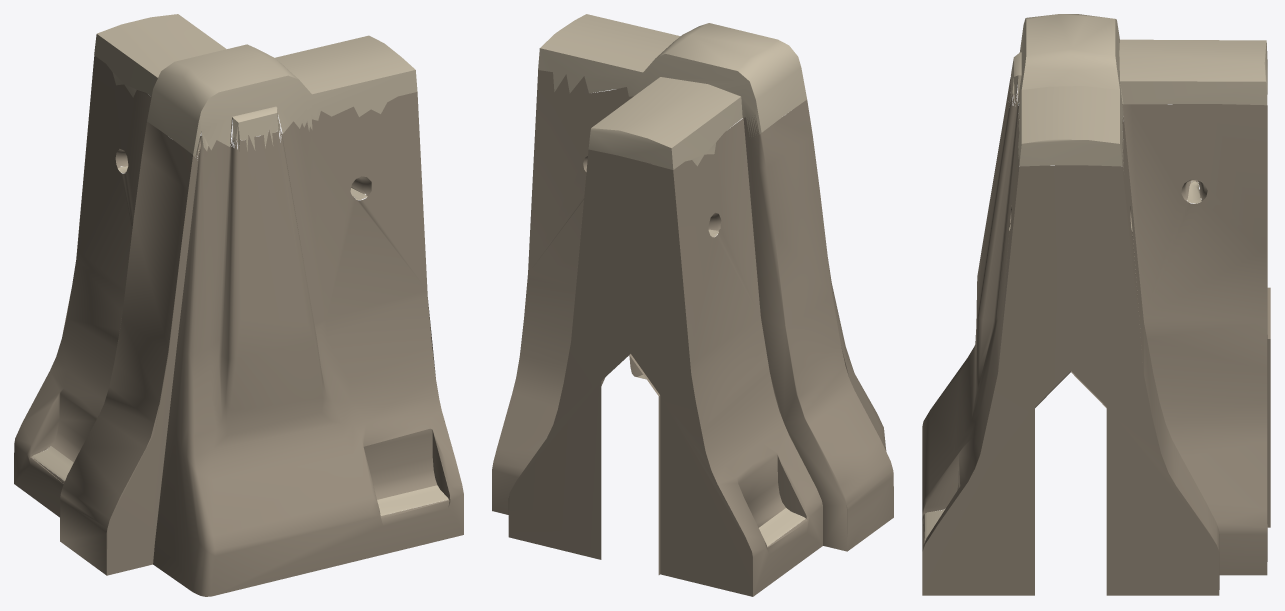
File: stone-wall-ne.glb
3 views of the same model, side by side, from view 1: azimuth 30°, elevation 25°; view 2: azimuth 150°, elevation 25°; view 3: azimuth 270°, elevation 25° (orthographic). The views are drawn at different scales.
Visible parts, largest first — view 1: body; view 2: body; view 3: body.
Part boxes in pixels (x1,y1,x2,y2): body: (14,14,463,596); body: (492,14,893,596); body: (922,14,1270,595).
Size of the model in its own units: 0.9457 by 1.33 by 0.8718.
